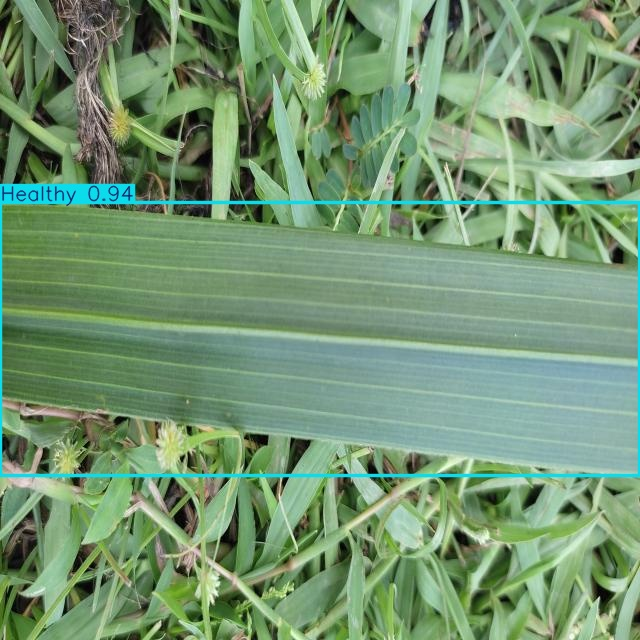Healthy: (0, 203, 639, 476)
